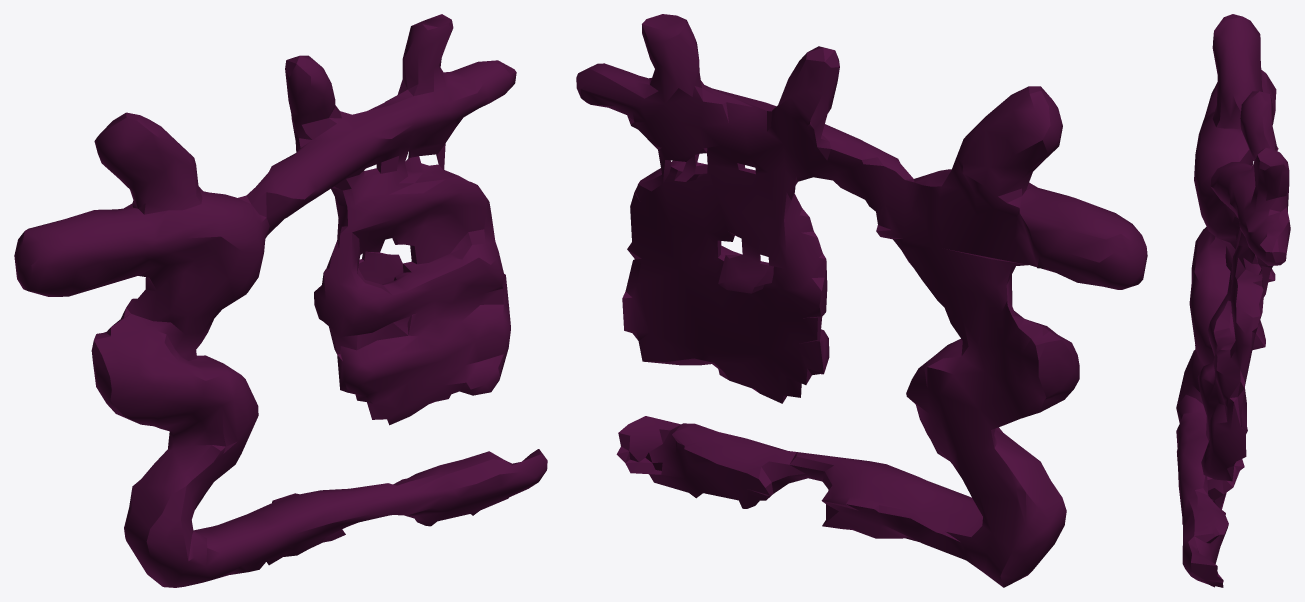
File: SushiCity_Sign_NeonPurple.fbx
3 views of the same model, side by side, from view 1: azimuth 30°, elevation 25°; view 2: azimuth 150°, elevation 25°; view 3: azimuth 270°, elevation 25° (orthographic). The views are drawn at different scales.
Visible parts, largest first — view 1: SushiCity_Signs_Neon.001; view 2: SushiCity_Signs_Neon.001; view 3: SushiCity_Signs_Neon.001.
Boxes of the visible parts, <box> form: SushiCity_Signs_Neon.001: <box>14,14,547,587</box>; SushiCity_Signs_Neon.001: <box>576,14,1147,587</box>; SushiCity_Signs_Neon.001: <box>1176,14,1290,587</box>.
Size of the model in its own units: 233 by 207 by 50.85.
